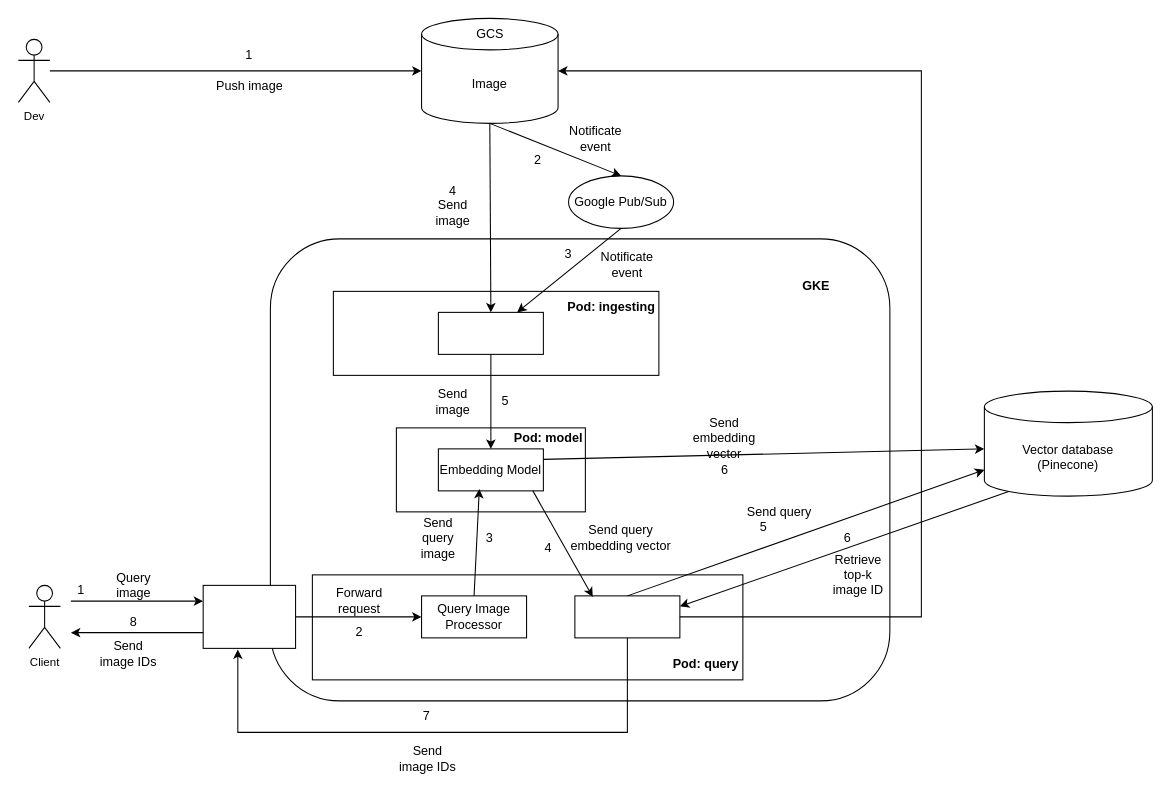
Some shapes in this 1171 by 793 pixel diagram are drawn without their labels. The centre of each missing label's shape, as x and y in pixels:
"Image Fetcher" belongs at point 490,332.
"Ingress nginx" belongs at point 249,616.
"Retriever" belongs at point 627,616.
